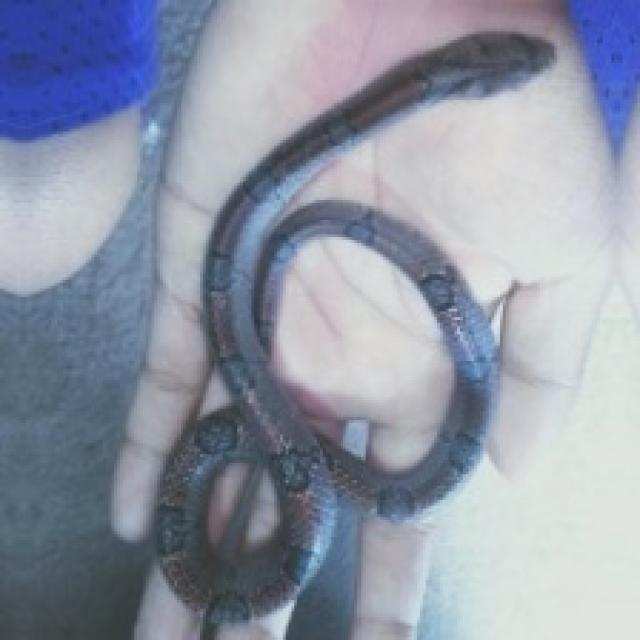northern short-headed snake: (157, 31, 551, 637)
